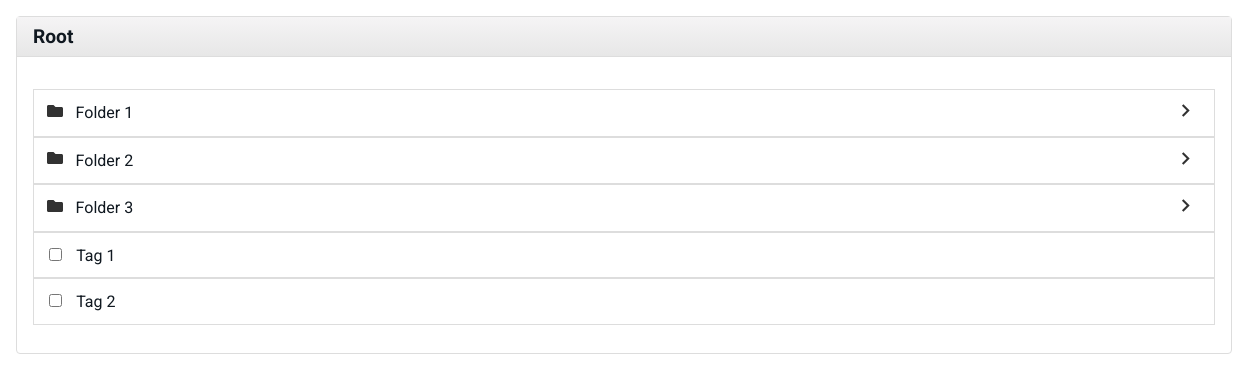
TagPicker Back Button › should return one folder when back button is clicked
The image size is (1249, 371).
Click the text "Folder 1": (104,113) [76, 103, 133, 122]
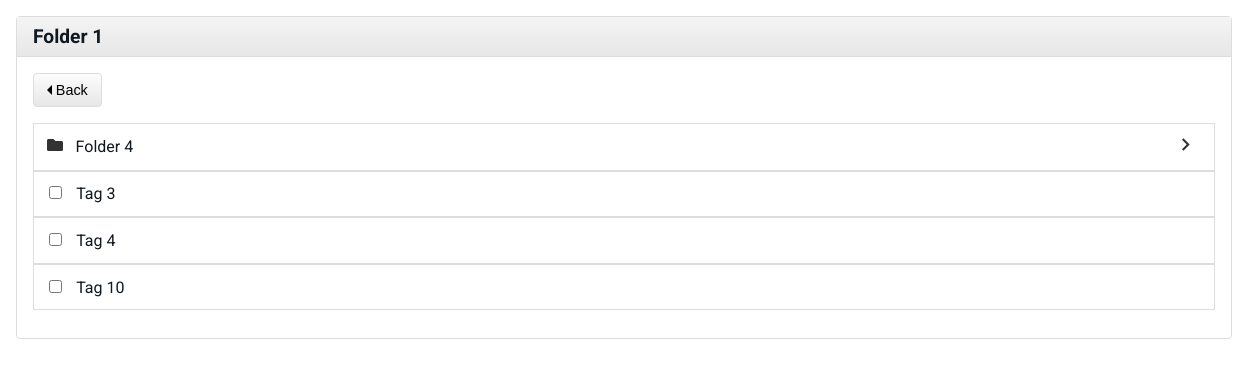
Click the button "Back": (67,90) [33, 73, 102, 107]
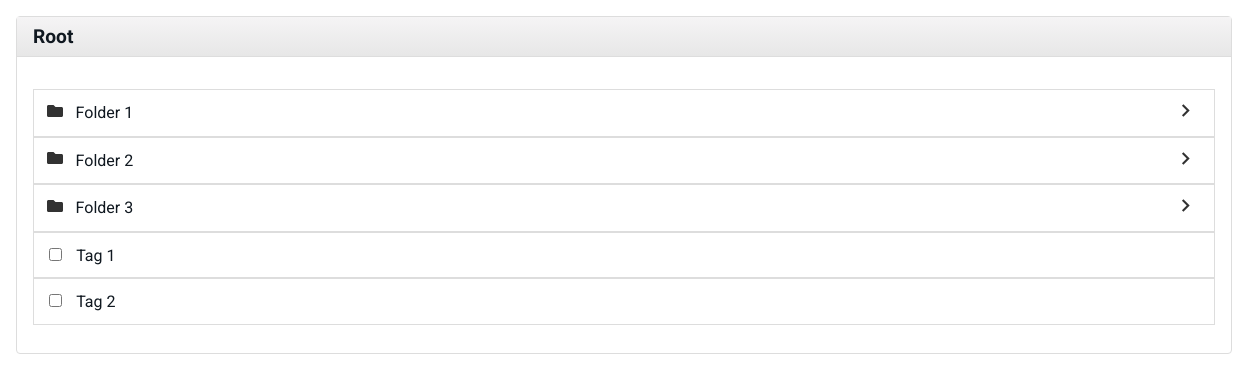
expect the heading "Root" is shown: met, box [17, 17, 1231, 57]
